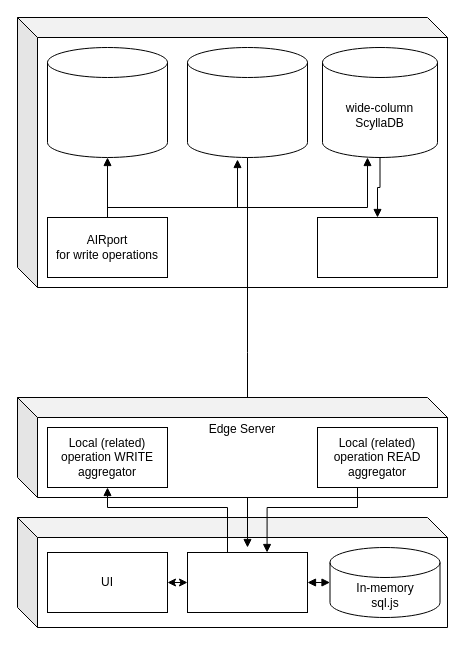
The diagram is 465 pixels wide and 645 high, and some of its shapes have lost their labels. The shapes that lost their labels are listed below. From the top down, each one's centre as x and y in pixels, then its label:
At pixel 107 102: "Relatiional CockroachDB".
At pixel 247 102: "full-text search Vespa".
At pixel 377 247: "Repository Transaction Log Reader".
At pixel 247 582: "AIRport for read operations".
